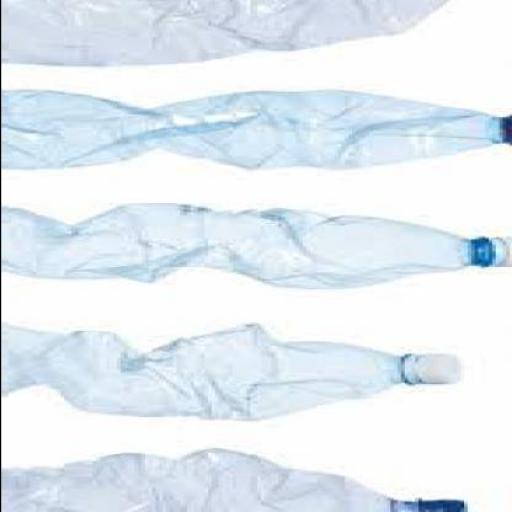plastic: (3, 325, 463, 423), (4, 206, 510, 292), (4, 89, 510, 171), (4, 2, 459, 68), (1, 450, 470, 511), (400, 356, 466, 386), (480, 236, 511, 270), (400, 500, 471, 510), (497, 118, 511, 149)
